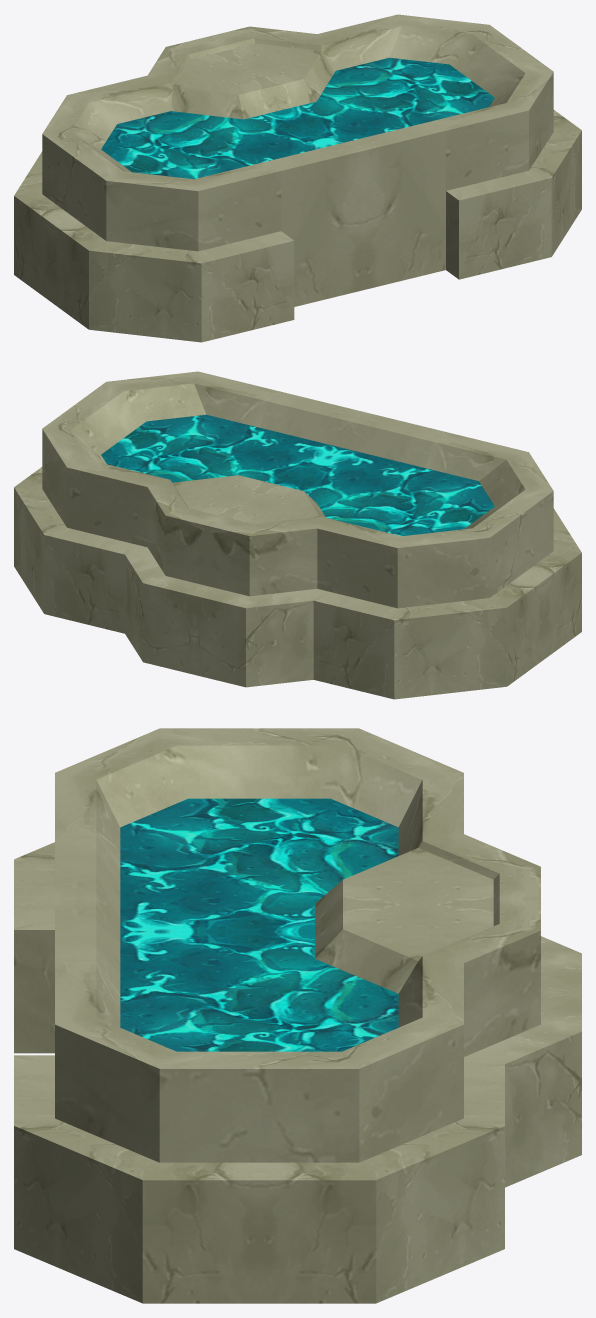
File: flowerbed_M2.FBX
The picture shows the model from 3 angles, top to bottom: view 1: azimuth 30°, elevation 25°; view 2: azimuth 150°, elevation 25°; view 3: azimuth 270°, elevation 25°; orthographic projection. The views are drawn at different scales.
Parts seen in each view (by area): view 1: objpolySurface1280; view 2: objpolySurface1280; view 3: objpolySurface1280.
Boxes of the visible parts, box(x1,y1,x2,y2) form: objpolySurface1280: box(14, 14, 581, 342); objpolySurface1280: box(14, 371, 581, 699); objpolySurface1280: box(14, 728, 581, 1303).
Bounding box in the file's own units: 300 × 81 × 192.
